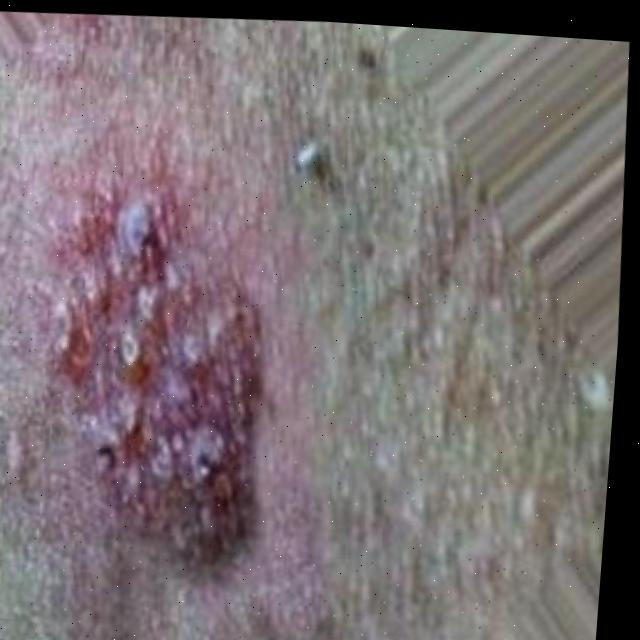Shingles: (5, 158, 304, 589)
